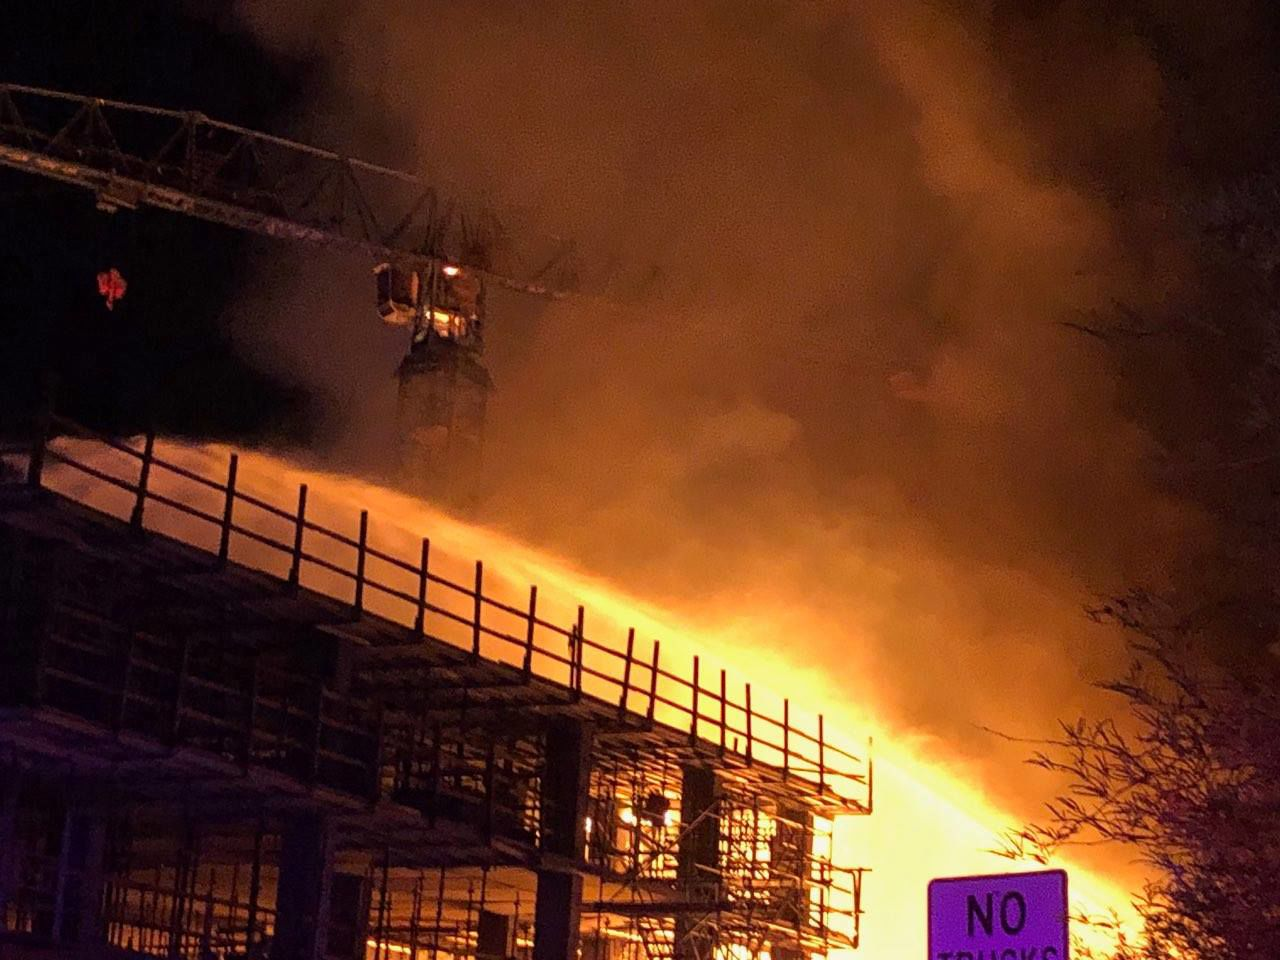Fire: (577, 485, 1030, 659), (875, 732, 995, 872)
